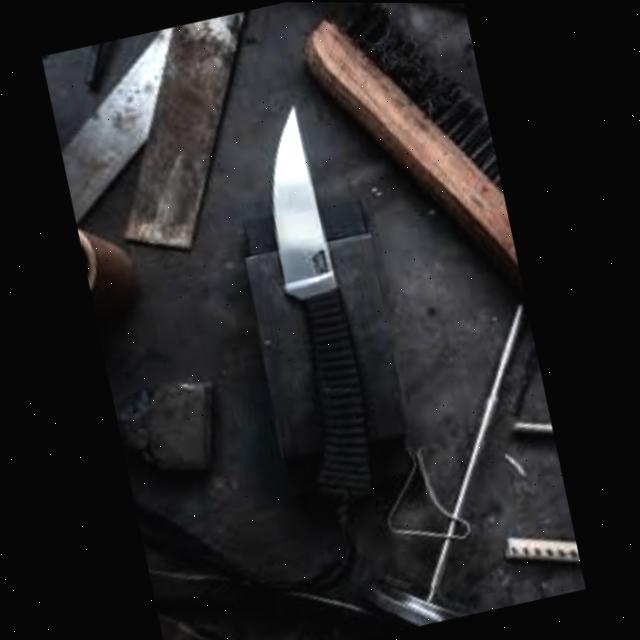knife: (231, 101, 395, 519), (38, 26, 215, 230)
